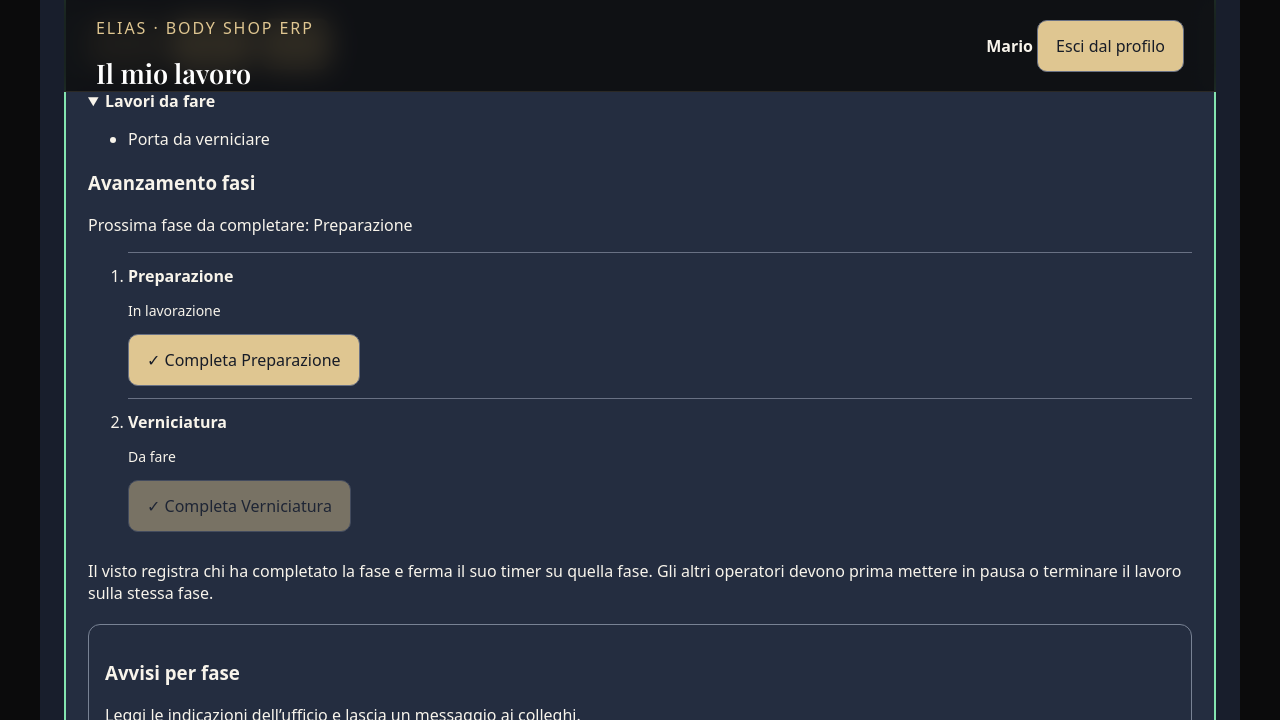
it: profilo tablet › shows tasks, personal hours and the identity of the phase signer before advancing to the next phase
The image size is (1280, 720).
(page scrolled)
Expected: the list item "Porta da verniciare" is shown, [128,128,270,150]
Click the button "✓ Completa Preparazione" at (244, 360), box [128,334,360,386]
(page scrolled)
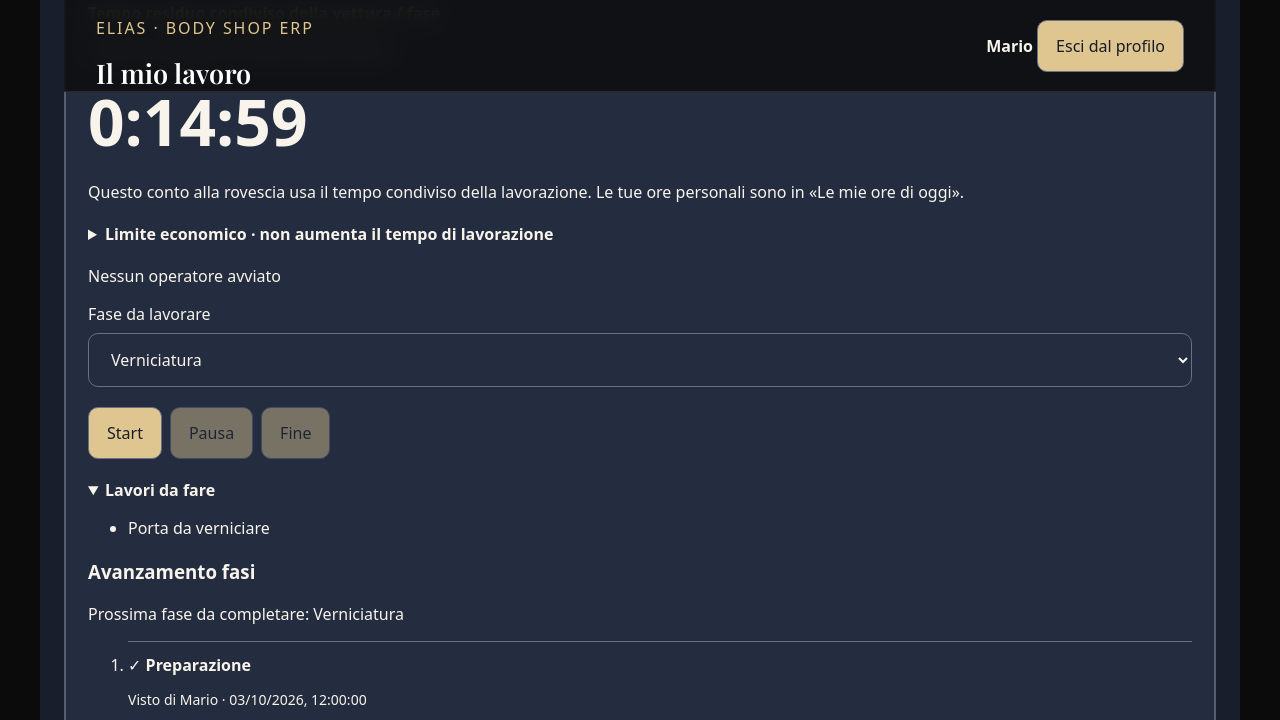
Result: the text "Visto di Mario · 03/10/2026, 12:00:00" is shown at [128,690,367,709]
Result: the dropdown named "Fase da lavorare su AA123BB" shows "Verniciatura" at [88,333,1192,387]
